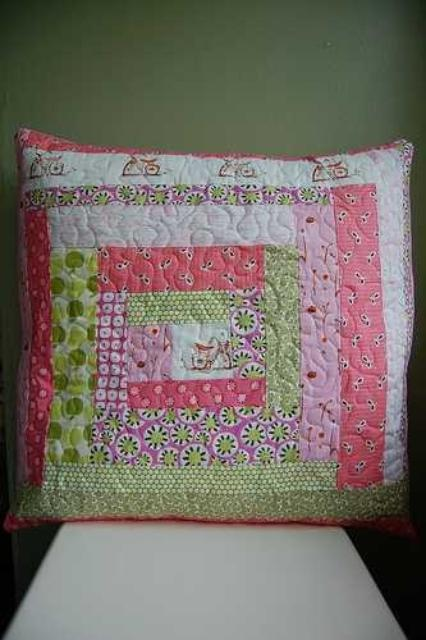pillow: (4, 124, 416, 536)
